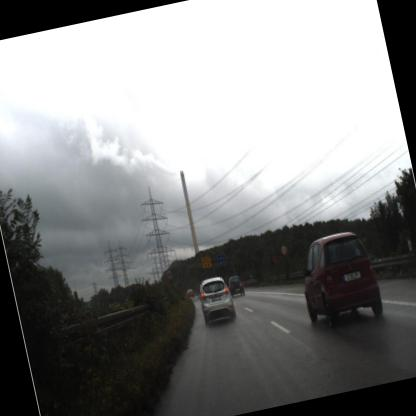prohibitory: (162, 266, 176, 282), (278, 240, 289, 258)
